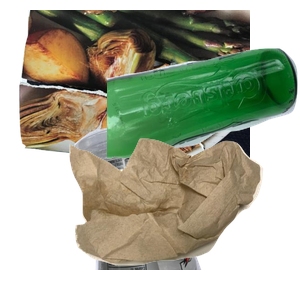glass: (107, 46, 300, 197)
paper: (16, 10, 256, 172)
plastic: (71, 120, 265, 300)
trash: (67, 136, 300, 300)
